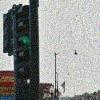traffic lights: (14, 6, 32, 77)
